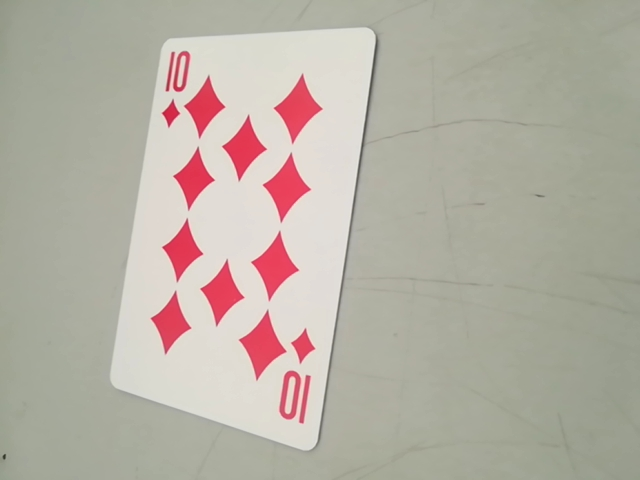fk 10: (275, 341, 321, 435), (158, 42, 199, 123)
